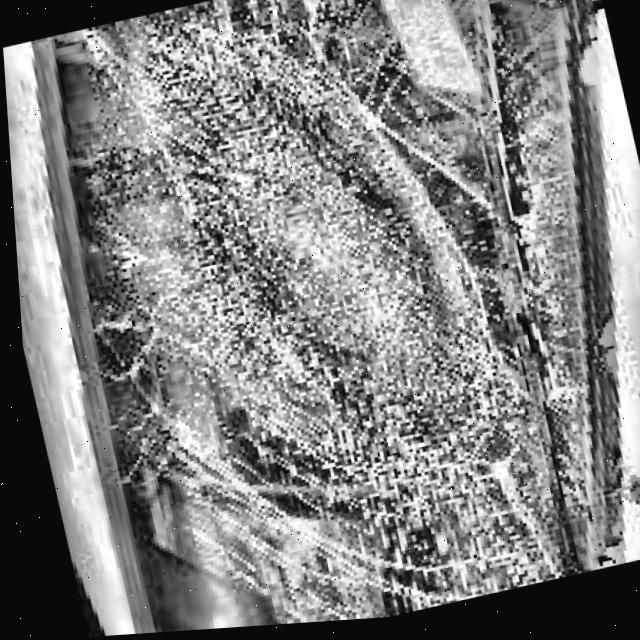glass_shatter: (102, 32, 506, 514)
